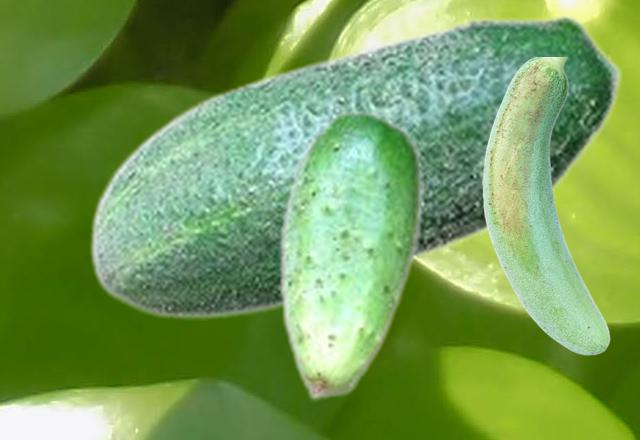cucumber: (88, 13, 623, 319), (278, 108, 422, 400), (482, 57, 609, 354)
